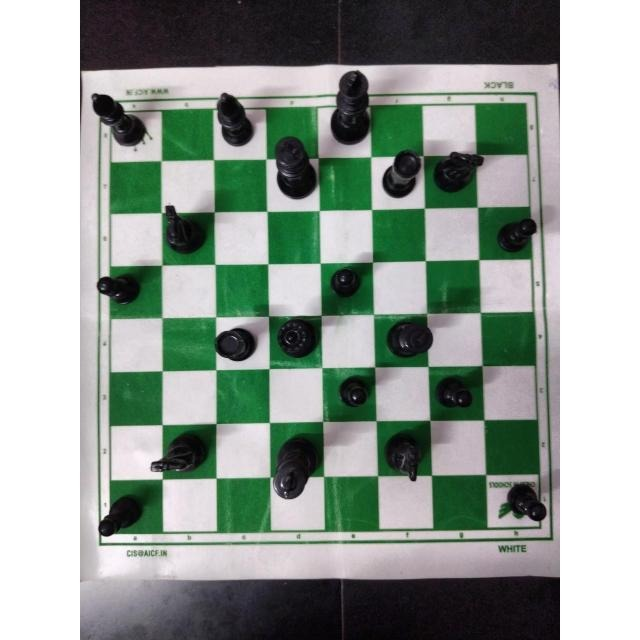black-bishop: (84, 87, 152, 155), (211, 89, 259, 149)
black-king: (268, 430, 320, 501), (328, 64, 373, 144), (270, 134, 318, 204), (384, 316, 440, 362)
black-knight: (144, 425, 212, 479), (381, 425, 428, 493), (433, 149, 489, 195), (157, 201, 205, 253)
black-pawn: (92, 493, 148, 541), (93, 268, 146, 311), (496, 212, 544, 258), (503, 481, 549, 523), (428, 372, 473, 412), (323, 262, 363, 302), (333, 376, 373, 412)
black-queen: (271, 310, 322, 363)
black-rook: (380, 141, 422, 201), (208, 320, 256, 368)
